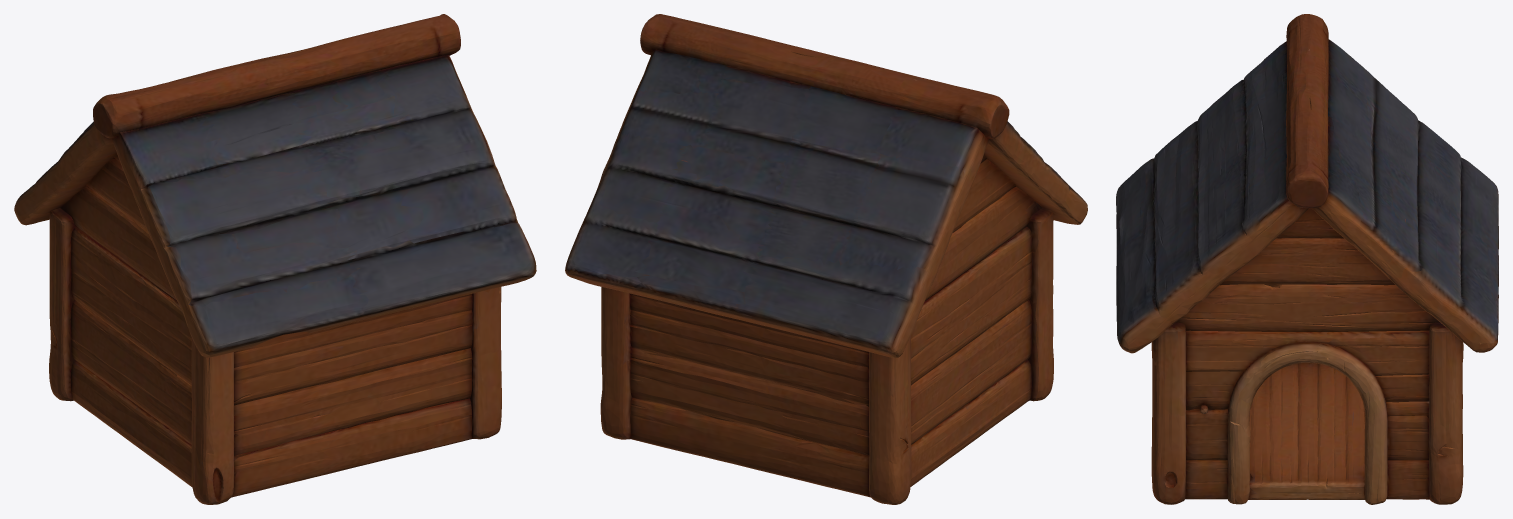
The model's file is DOM_budka_1__brown.glb.
3 renders of one model, left to right at view 1: azimuth 30°, elevation 25°; view 2: azimuth 150°, elevation 25°; view 3: azimuth 270°, elevation 25°, orthographic. The views are drawn at different scales.
Parts seen in each view (by area): view 1: tripo_node_6cc3d40a-976a-43b8-8768-4dbe8ee51db6; view 2: tripo_node_6cc3d40a-976a-43b8-8768-4dbe8ee51db6; view 3: tripo_node_6cc3d40a-976a-43b8-8768-4dbe8ee51db6.
Part boxes in pixels (x1,y1,x2,y2): tripo_node_6cc3d40a-976a-43b8-8768-4dbe8ee51db6: [14, 14, 536, 504]; tripo_node_6cc3d40a-976a-43b8-8768-4dbe8ee51db6: [565, 14, 1087, 504]; tripo_node_6cc3d40a-976a-43b8-8768-4dbe8ee51db6: [1116, 14, 1498, 504].
Size of the model in its own units: 1 by 0.9777 by 0.9836.
1 material, 1 textured.
